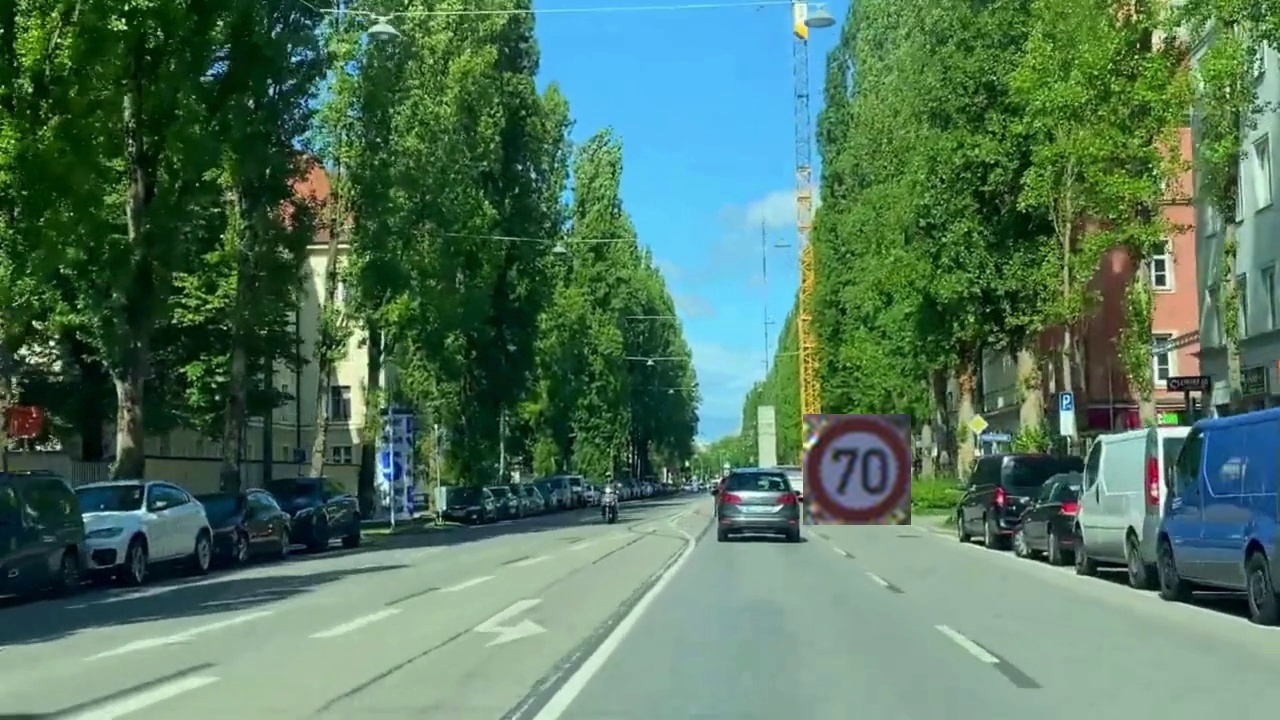Speed 70: (803, 414, 911, 525)
